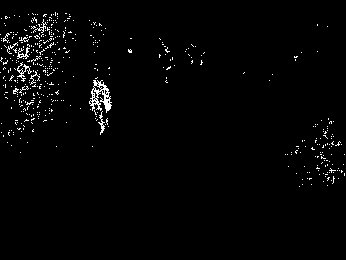person: (88, 76, 113, 138)
